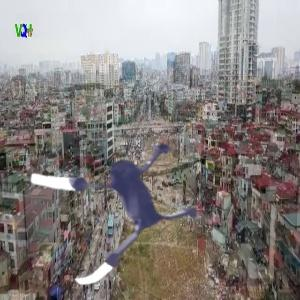drone: (21, 103, 214, 296)
